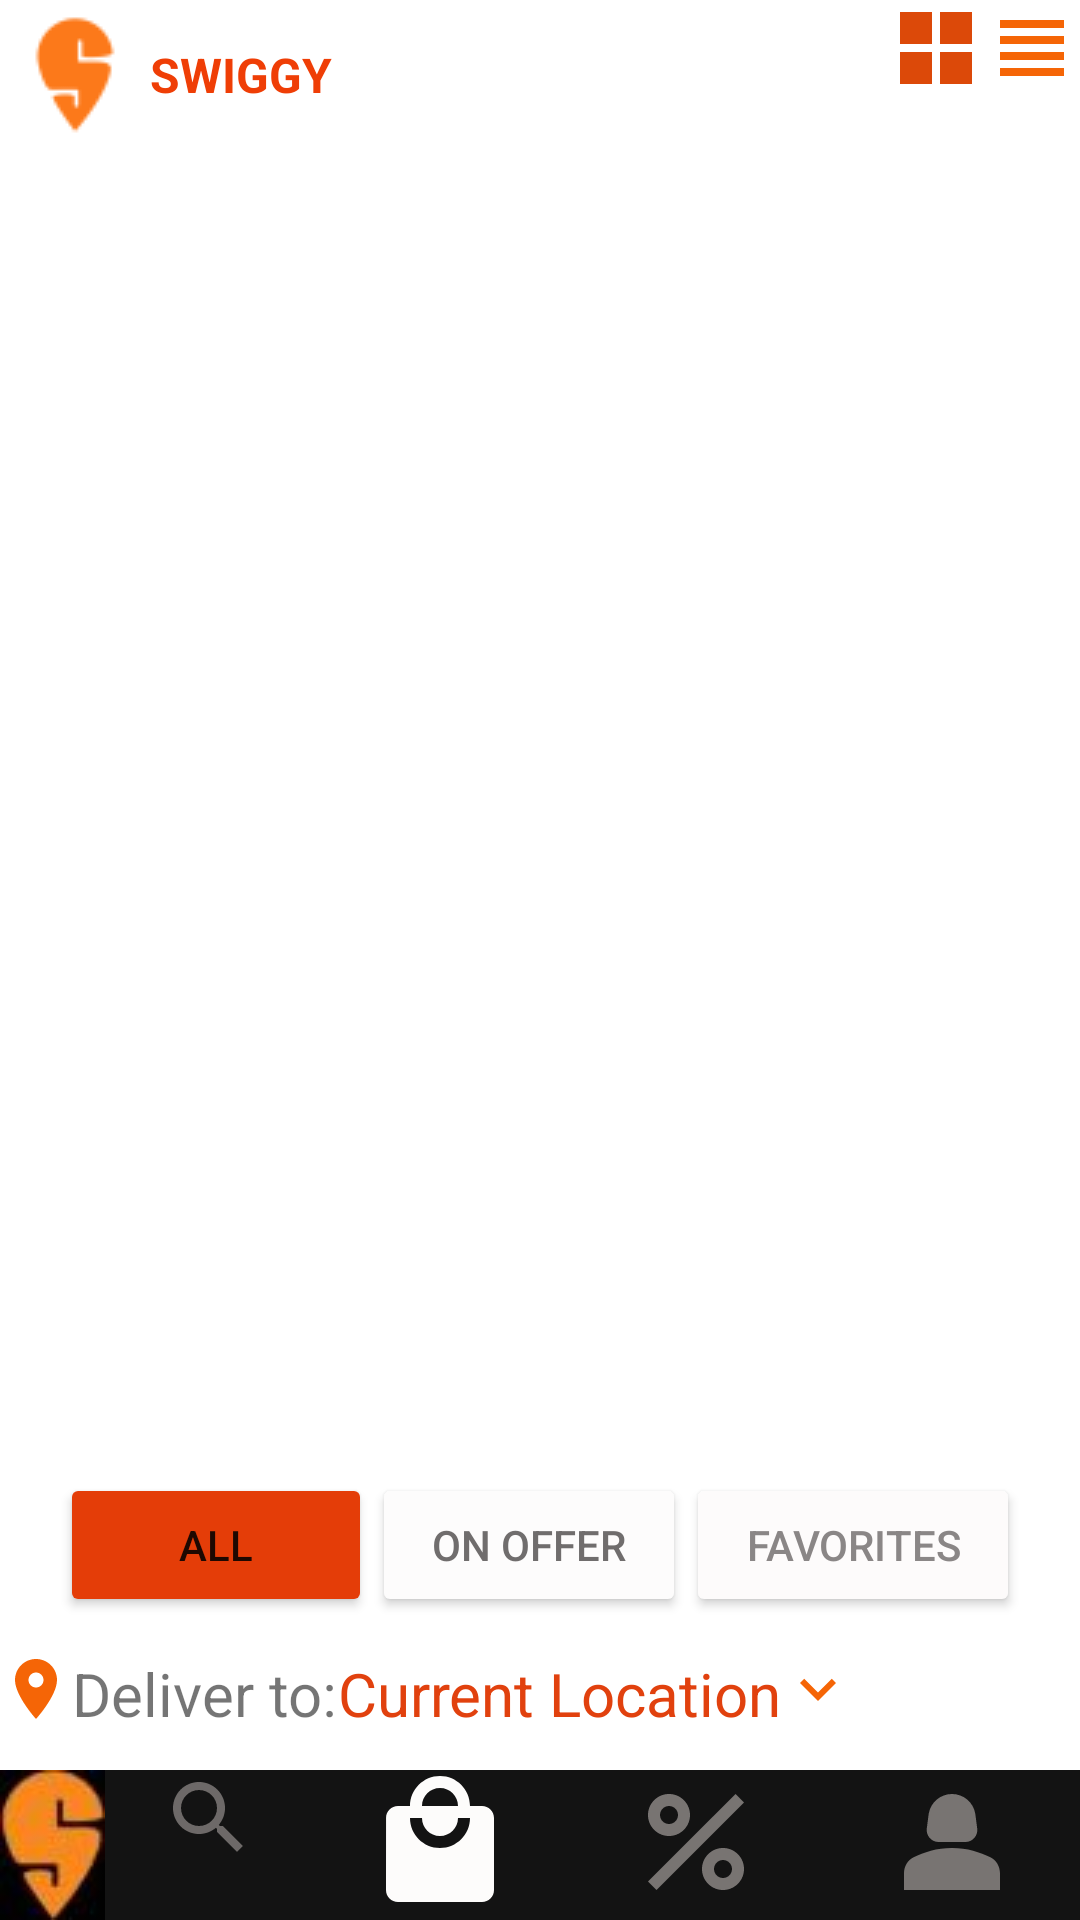

Named icons in this screenshot (1080 × 1920) and their centers, [x,y]:
expand more: [818,1690]
grid view: [936,48]
local mall: [440,1839]
location on: [36,1689]
percent: [696,1842]
person: [952,1842]
search: [208,1817]
view headline: [1032,48]
